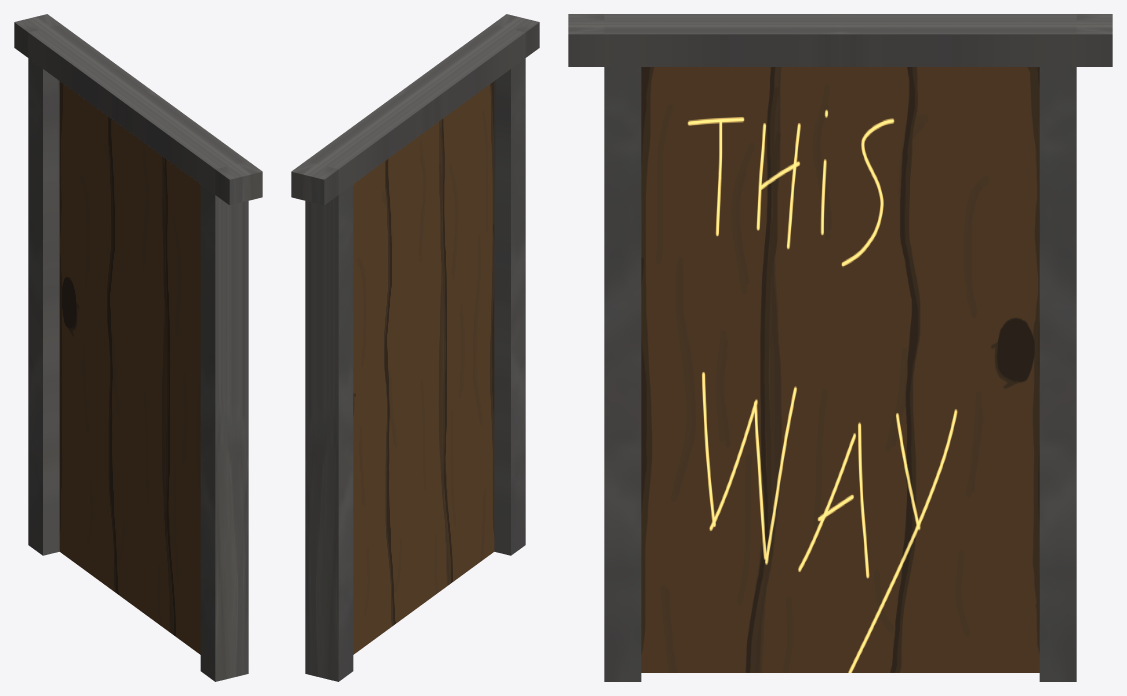
The model's file is DoorThisWay.fbx.
3 views of the same model, side by side, from view 1: azimuth 30°, elevation 25°; view 2: azimuth 150°, elevation 25°; view 3: azimuth 270°, elevation 25° (orthographic). The views are drawn at different scales.
Parts seen in each view (by area): view 1: Plane.001, Cube.001; view 2: Plane.001, Cube.001; view 3: Plane, Cube.001.
Boxes of the visible parts, x1,y1,x2,y2 form: Plane.001: (59, 81, 200, 654); Cube.001: (14, 14, 262, 681); Plane.001: (353, 81, 494, 654); Cube.001: (291, 14, 539, 681); Plane: (641, 67, 1039, 672); Cube.001: (568, 14, 1112, 681).
Size of the model in its own units: 41.06 by 605 by 461.
